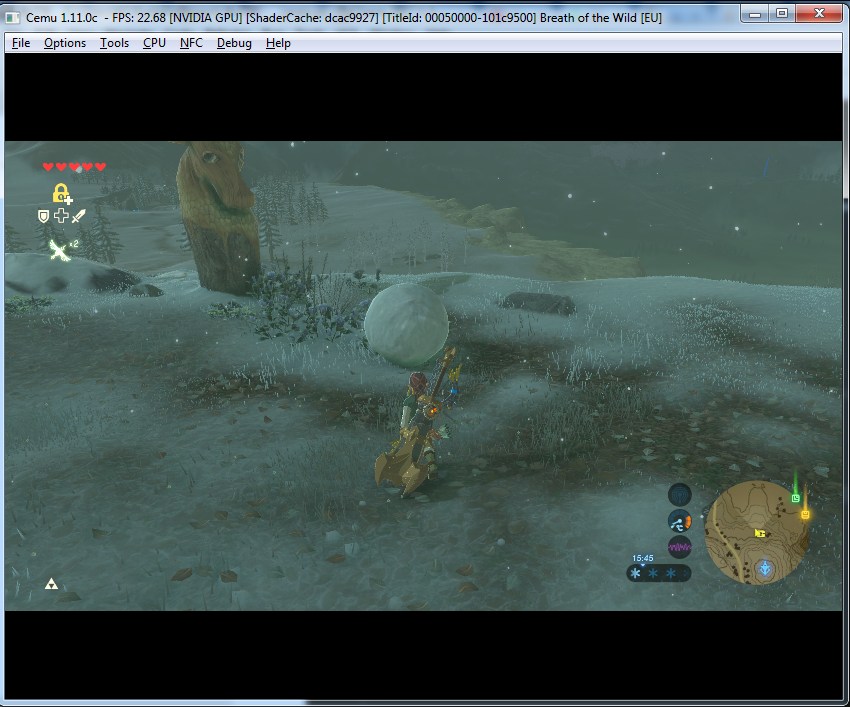link: (370, 347, 467, 509)
snowball: (349, 277, 454, 369)
totem: (167, 139, 271, 306)
